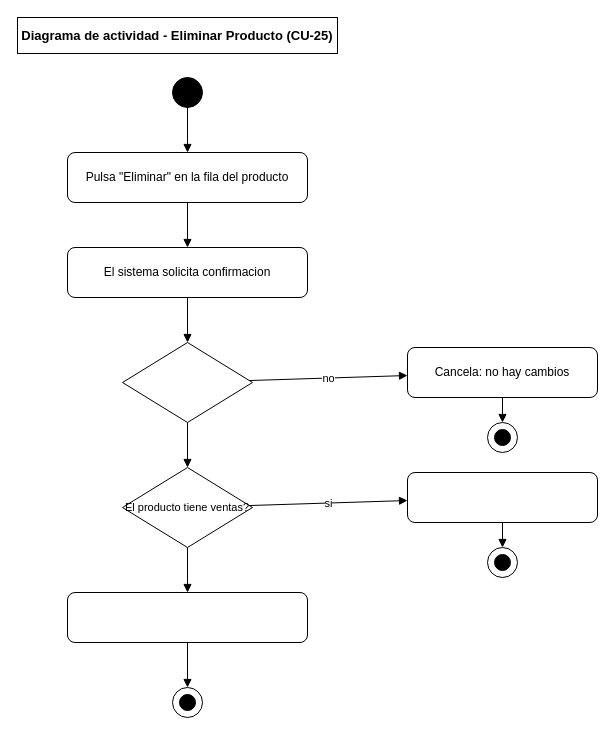
Image size: 615x735. Some labels were removed from this diagram. Here are the shapes that lost their labels. From the top down, the centre of each, then its label:
At (187,382): "Confirma?".
At (502,497): "Rechaza: no se puede eliminar".
At (187,617): "Elimina el producto y su receta (cascada)".
